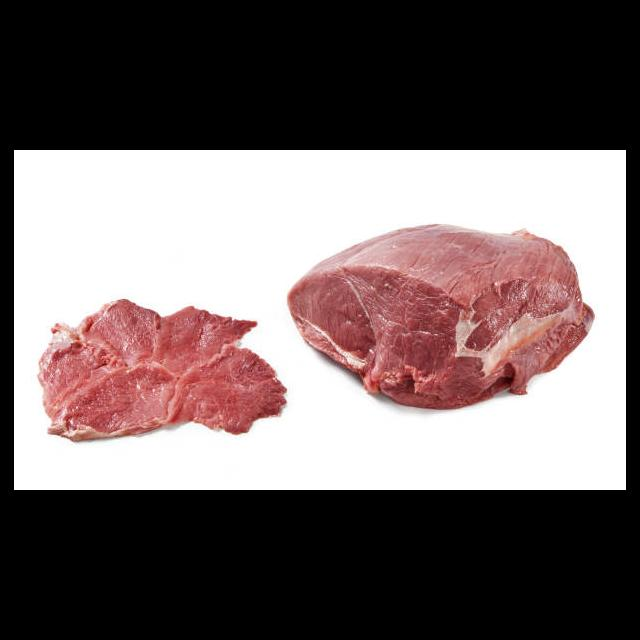beef: (286, 223, 595, 410), (34, 296, 288, 443)
